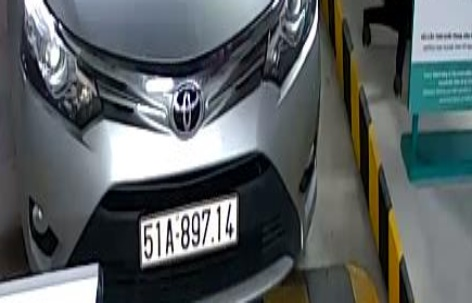plate: (135, 192, 240, 268)
